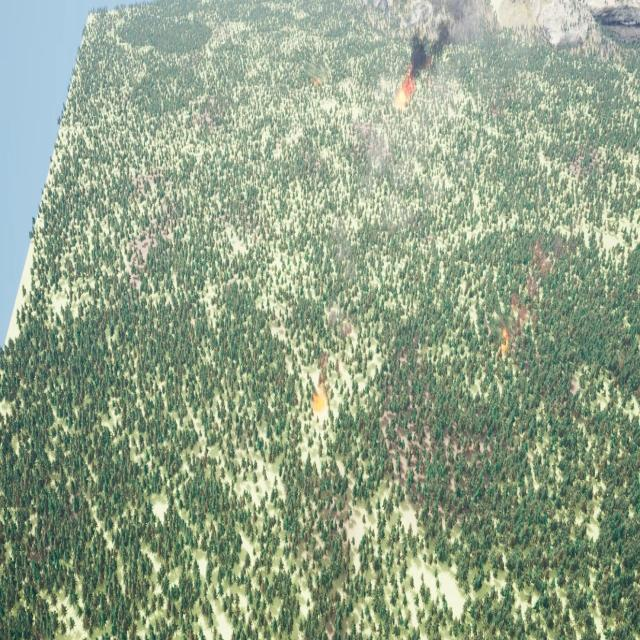fire: (397, 65, 418, 103), (314, 385, 327, 408), (500, 328, 510, 353)
smoke: (410, 4, 476, 75)
